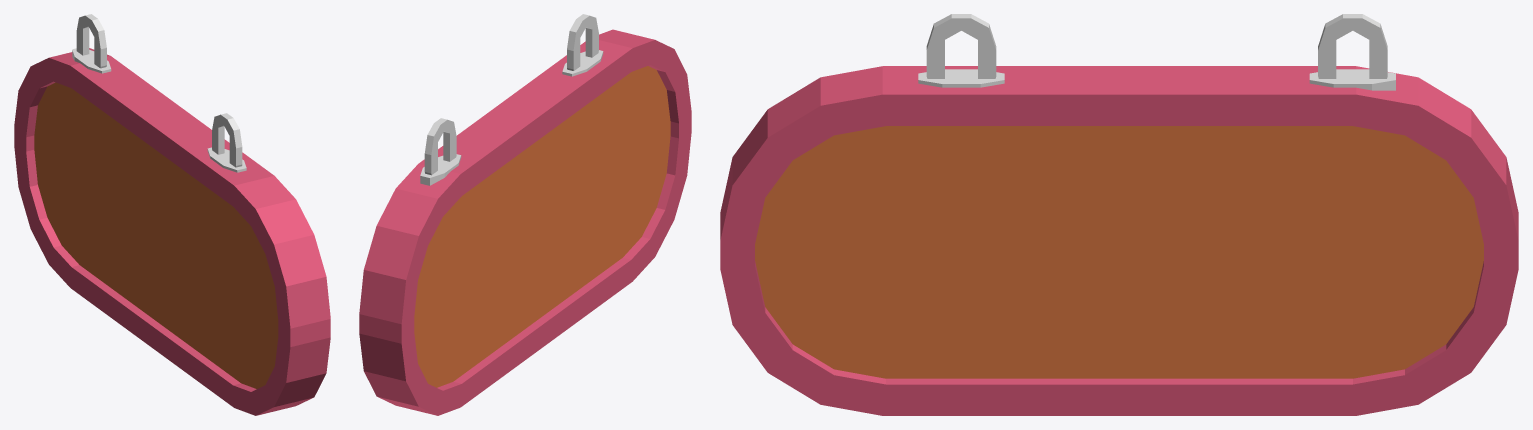
File: Sign.fbx
3 renders of one model, left to right at view 1: azimuth 30°, elevation 25°; view 2: azimuth 150°, elevation 25°; view 3: azimuth 270°, elevation 25°, orthographic. The views are drawn at different scales.
Parts seen in each view (by area): view 1: Cube.009, Cube.019, Cube.008, Cube.007, Cube.015, Cube.016; view 2: Cube.009, Cube.019, Cube.008, Cube.007, Cube.015, Cube.016; view 3: Cube.009, Cube.019, Cube.007, Cube.008, Cube.015, Cube.016.
Boxes of the visible parts, left/top/right/bottom form: Cube.009: left=34, top=82, right=278, bottom=388; Cube.019: left=14, top=48, right=330, bottom=415; Cube.008: left=212, top=113, right=242, bottom=167; Cube.007: left=76, top=14, right=106, bottom=68; Cube.015: left=72, top=48, right=111, bottom=73; Cube.016: left=207, top=147, right=246, bottom=172; Cube.009: left=414, top=66, right=670, bottom=387; Cube.019: left=359, top=29, right=691, bottom=415; Cube.008: left=567, top=14, right=598, bottom=70; Cube.007: left=424, top=118, right=456, bottom=175; Cube.015: left=420, top=154, right=461, bottom=185; Cube.016: left=562, top=50, right=603, bottom=76; Cube.009: left=755, top=126, right=1483, bottom=378; Cube.019: left=720, top=66, right=1518, bottom=415; Cube.007: left=1318, top=14, right=1387, bottom=78; Cube.008: left=926, top=14, right=996, bottom=78; Cube.015: left=1309, top=69, right=1395, bottom=90; Cube.016: left=918, top=69, right=1004, bottom=87.
Bounding box in the file's own units: 99.78 × 630 × 1183.
